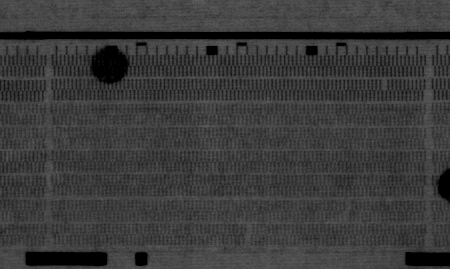Broken hole: (341, 199, 354, 222), (242, 222, 254, 246), (378, 78, 391, 92)
